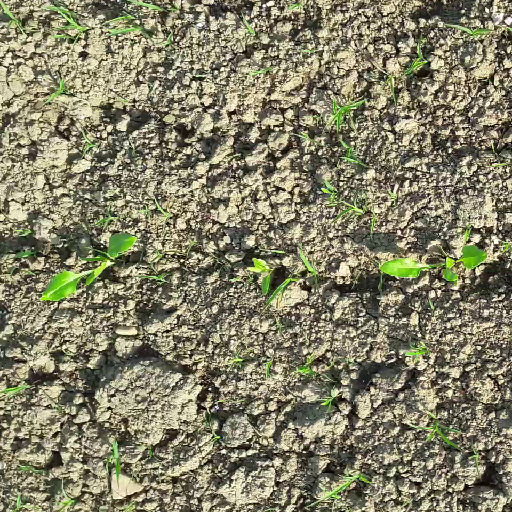sugarbeet: (39, 235, 140, 301), (377, 242, 489, 284), (245, 257, 275, 295)
weed: (2, 1, 180, 47), (296, 98, 370, 167), (318, 181, 398, 229), (381, 41, 427, 107), (406, 411, 465, 455), (308, 469, 373, 505), (259, 275, 305, 317), (294, 247, 320, 294), (14, 227, 37, 275), (444, 21, 512, 36), (102, 442, 122, 481), (405, 340, 429, 366), (58, 479, 77, 511), (45, 76, 67, 102), (16, 462, 53, 477), (137, 204, 171, 219), (239, 13, 258, 39), (296, 354, 316, 378), (92, 207, 117, 225), (317, 386, 335, 411), (146, 263, 168, 283), (14, 493, 37, 510), (469, 446, 481, 478), (1, 382, 31, 394), (83, 133, 96, 157), (248, 66, 278, 75), (207, 429, 222, 445), (288, 1, 307, 12), (264, 360, 272, 383), (234, 354, 243, 366), (464, 226, 470, 241)
